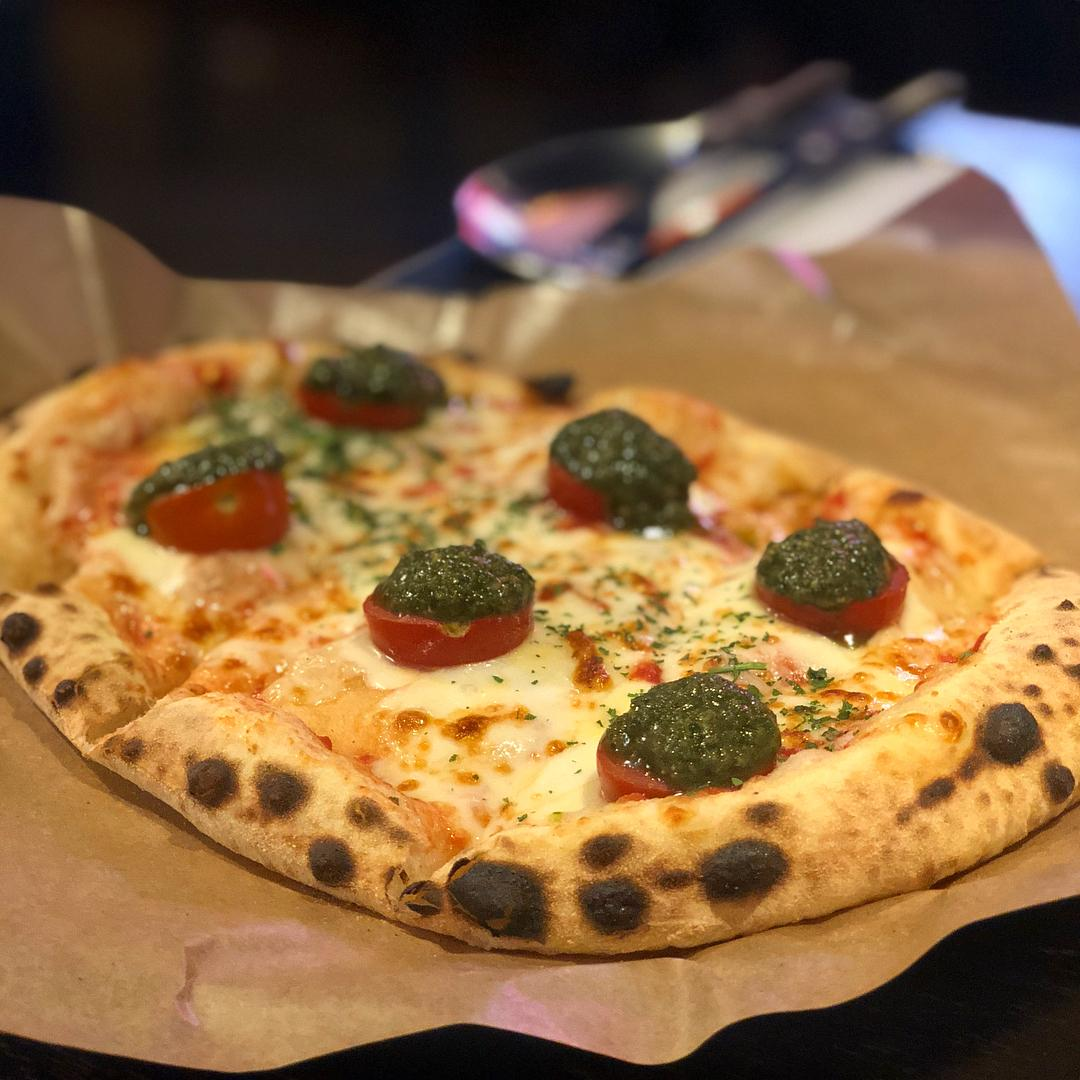Pizza: (1, 334, 1080, 951)
Tomatoes: (594, 678, 765, 792), (751, 528, 914, 638), (358, 564, 536, 661), (538, 418, 667, 521), (141, 458, 285, 541), (294, 351, 432, 432)
